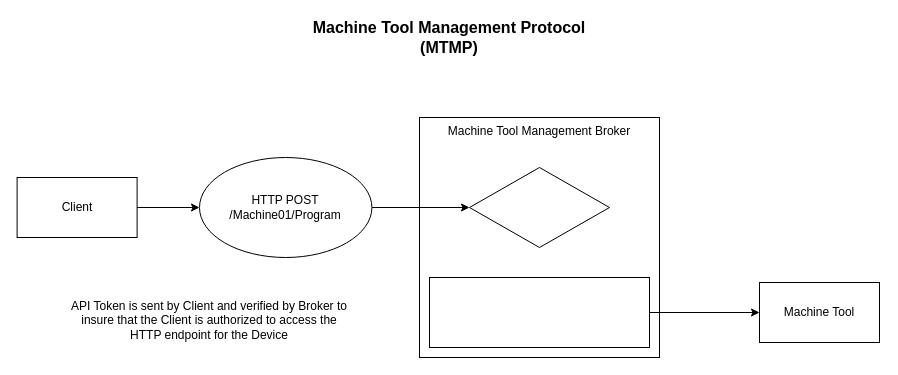
Image size: 898x375. Some labels were removed from this diagram. The centre of each missing label's shape, as x and y in pixels:
Adapter: (539,312)
Load Program: (539,207)
